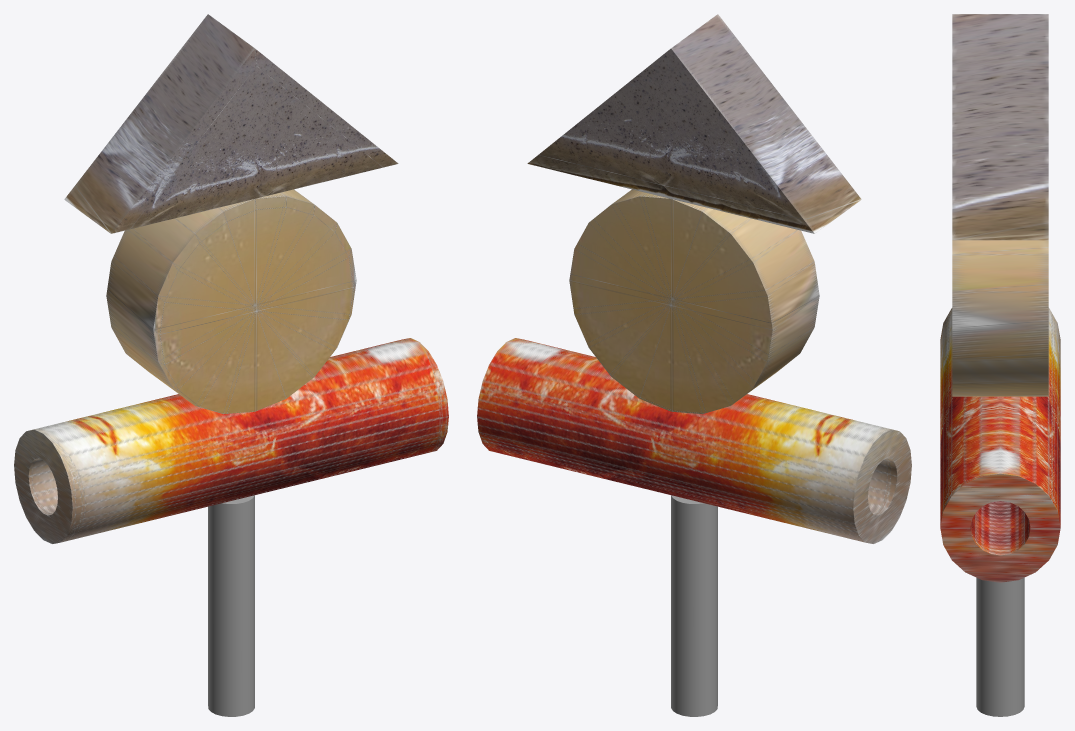
File: oden.fbx
The picture shows the model from 3 angles, left to right: view 1: azimuth 30°, elevation 25°; view 2: azimuth 150°, elevation 25°; view 3: azimuth 270°, elevation 25°; orthographic projection. The views are drawn at different scales.
Parts seen in each view (by area): view 1: pCylinder3; view 2: pCylinder3; view 3: pCylinder3.
Part boxes in pixels (x1,y1,x2,y2): pCylinder3: (14,14,448,716); pCylinder3: (477,14,911,716); pCylinder3: (940,14,1060,716).
Bounding box in the file's own units: 1.85 × 3.18 × 0.5.
Materials: 2 (1 with a texture image).
